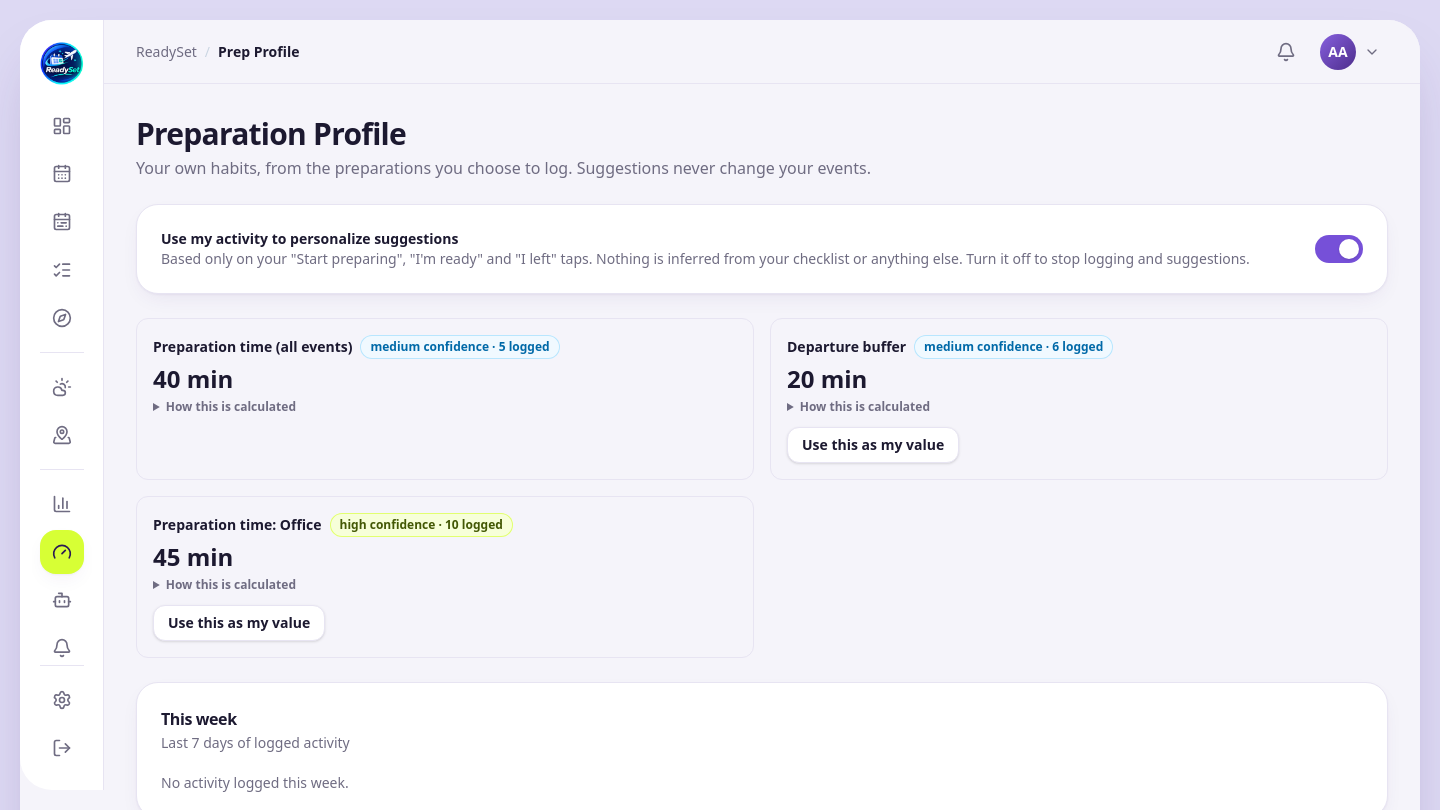
Test case: Preparation Profile page › shows suggestions with confidence and sample size, and "Use this" only fills the form (nothing is saved until you press Save)
expect the heading "Preparation time: Office" is shown: met, box [153,515,322,535]
expect the text "high confidence · 10 logged" is shown: met, box [330,513,513,537]
Click the button "Use this as my value" below "45".
click(239, 623)  # box [153,605,325,641]
(page scrolled)
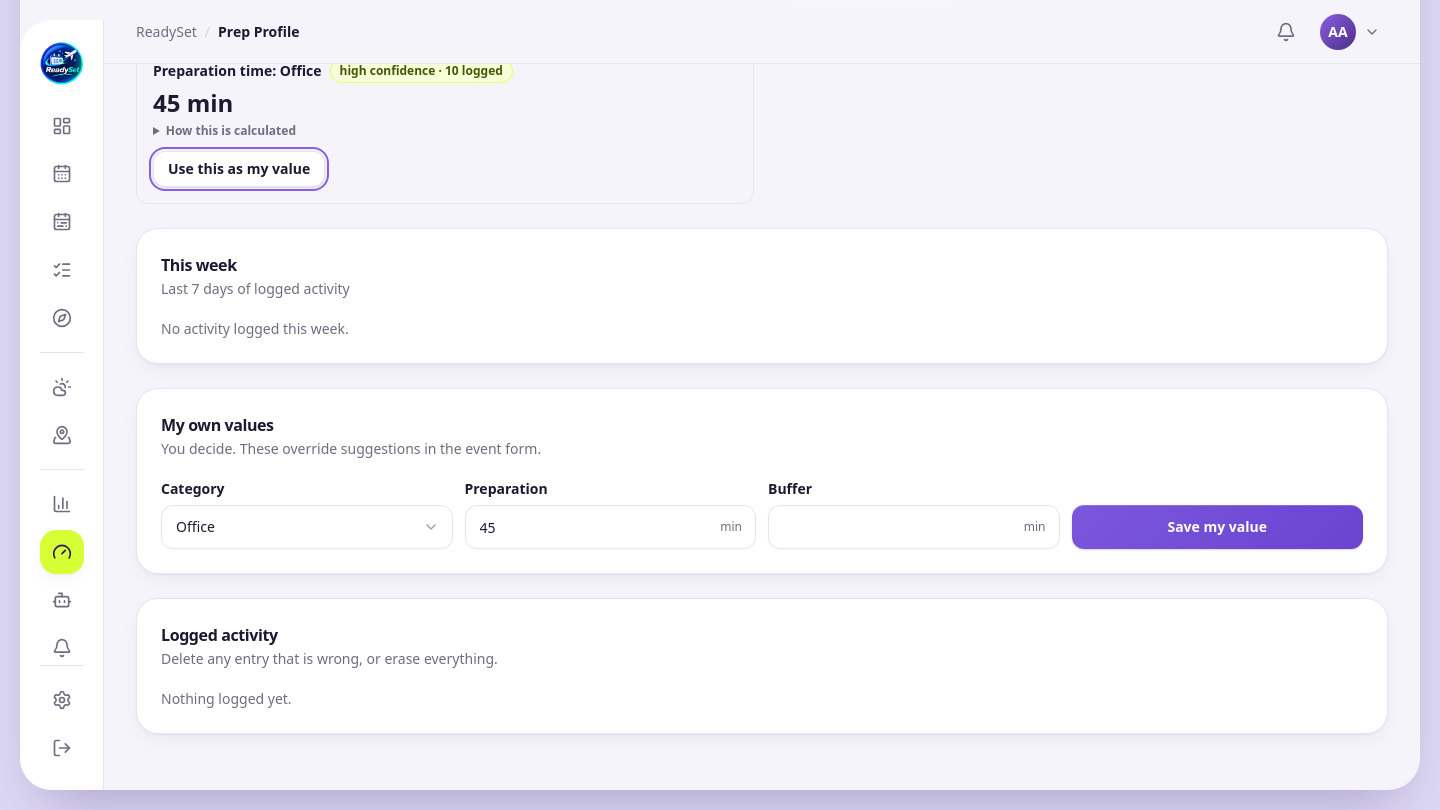
expect the number field labelled "Preparation" holds "45": met, box [464,505,756,549]
Click the button "Save my value".
click(1217, 527)  # box [1072,505,1363,549]
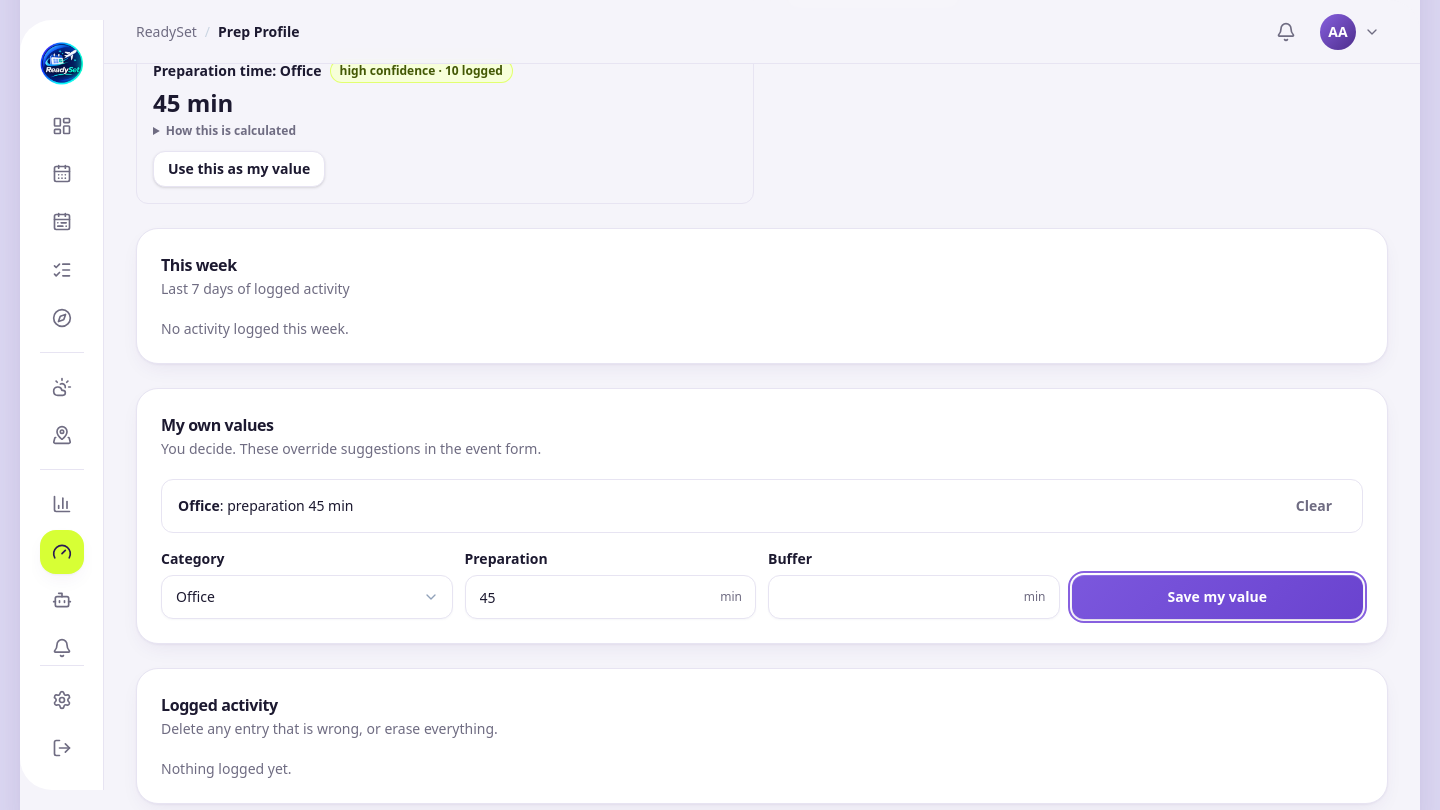
expect the text "Office: preparation 45 min" is shown: met, box [178,496,353,516]
